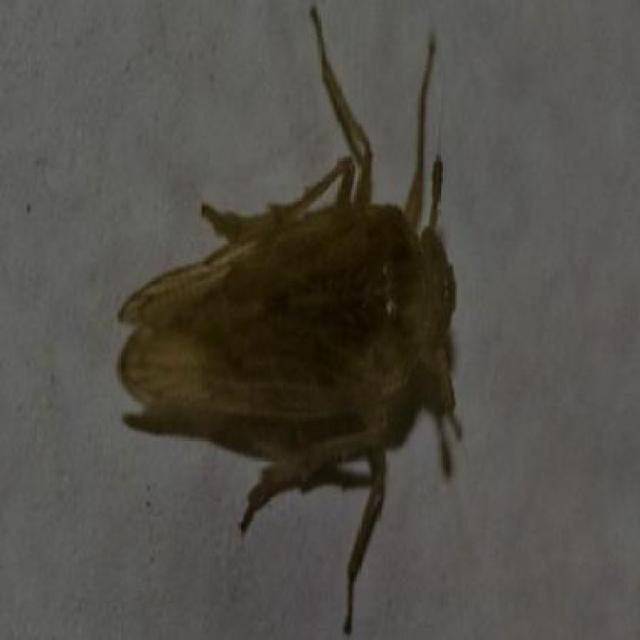brown-planthopper: (117, 168, 466, 443)
